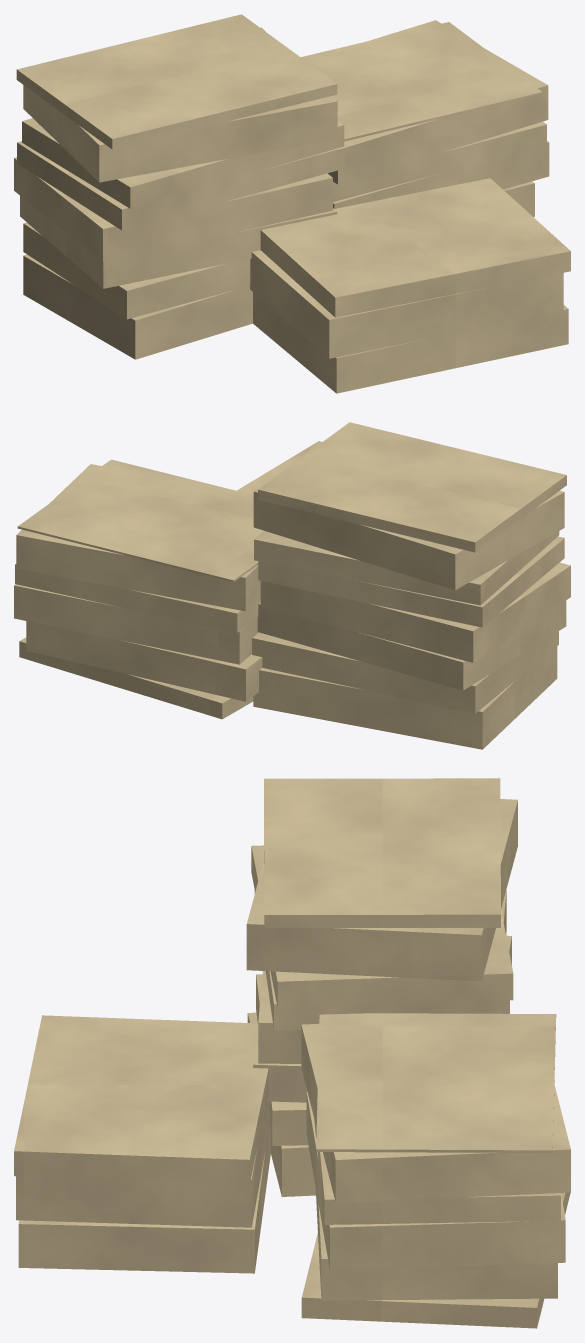
File: Paper_Stack_1_LOD1.gltf
The picture shows the model from 3 angles, top to bottom: view 1: azimuth 30°, elevation 25°; view 2: azimuth 150°, elevation 25°; view 3: azimuth 270°, elevation 25°; orthographic projection. The views are drawn at different scales.
Parts seen in each view (by area): view 1: Paper_Stack_1_LOD1; view 2: Paper_Stack_1_LOD1; view 3: Paper_Stack_1_LOD1.
Boxes of the visible parts, x1,y1,x2,y2 form: Paper_Stack_1_LOD1: [14, 14, 570, 393]; Paper_Stack_1_LOD1: [14, 422, 570, 749]; Paper_Stack_1_LOD1: [14, 778, 570, 1328].
Size of the model in its own units: 0.6281 by 0.28 by 0.518.
1 material, 1 textured.
